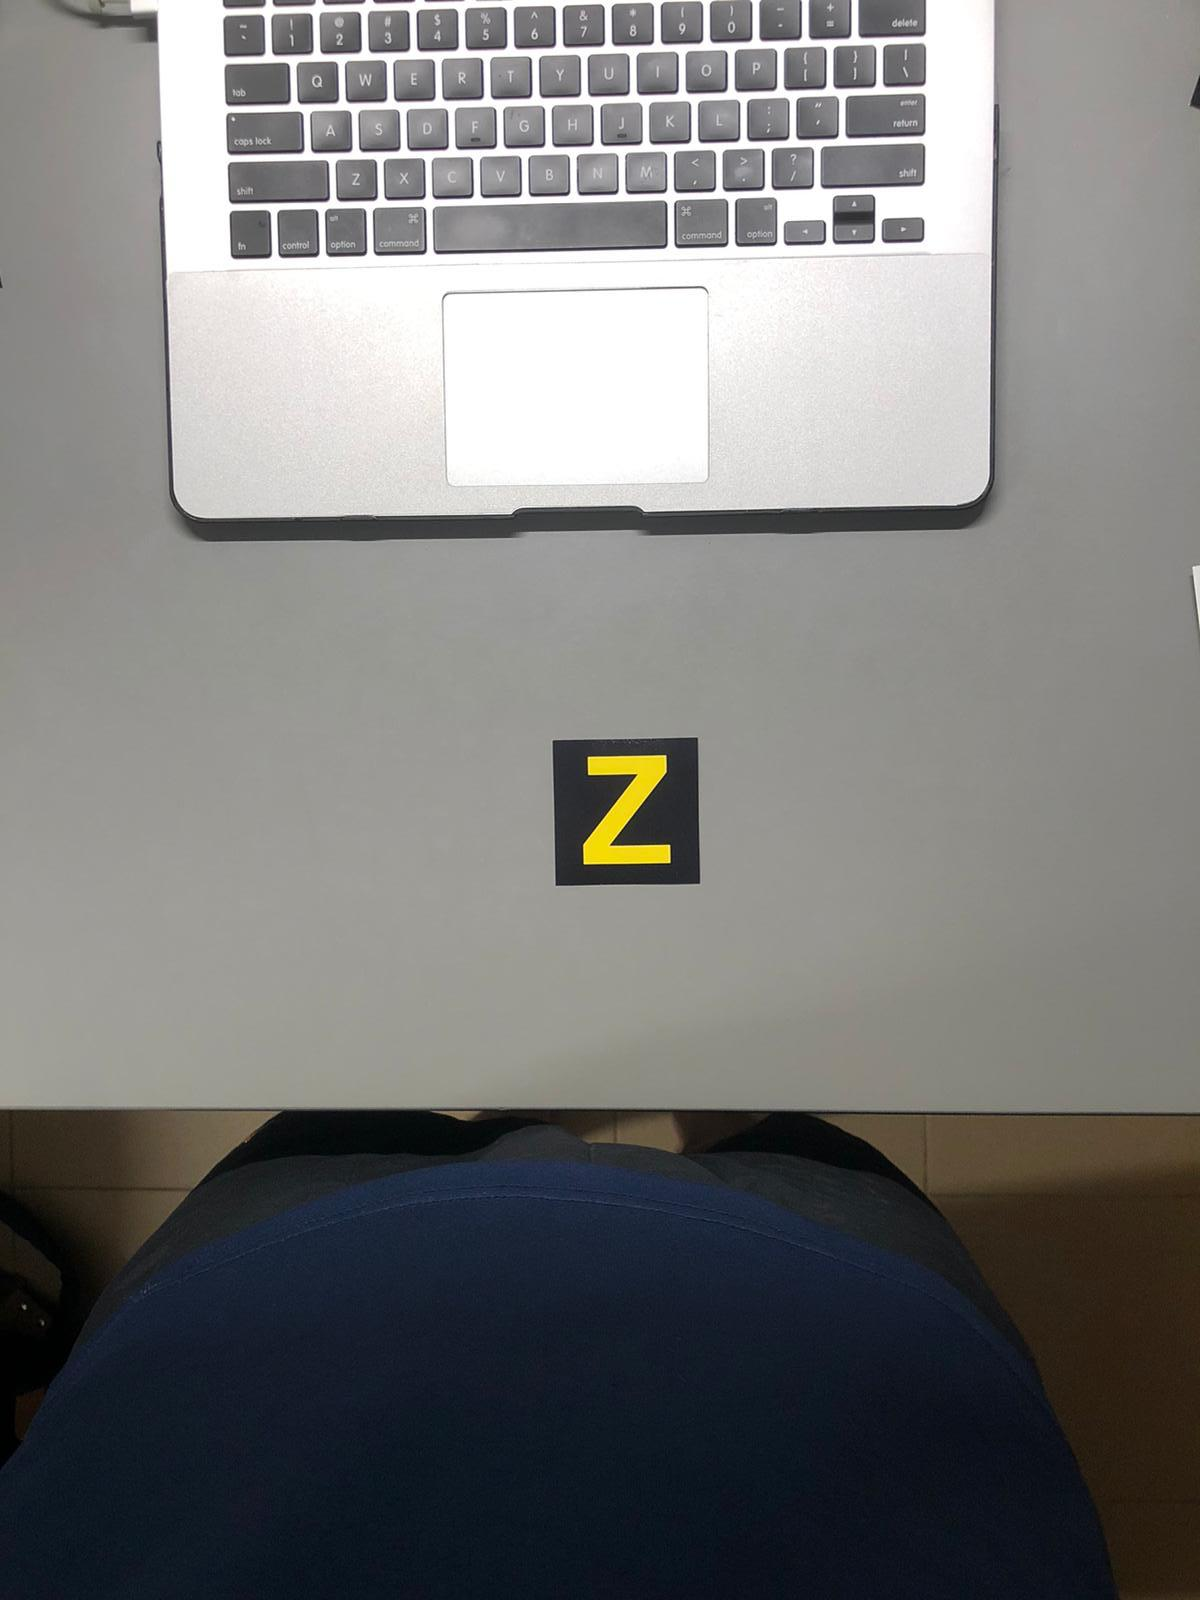Z: (553, 743, 684, 881)
